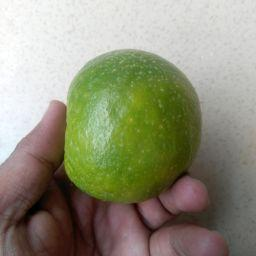Unripe: (62, 50, 203, 206)
